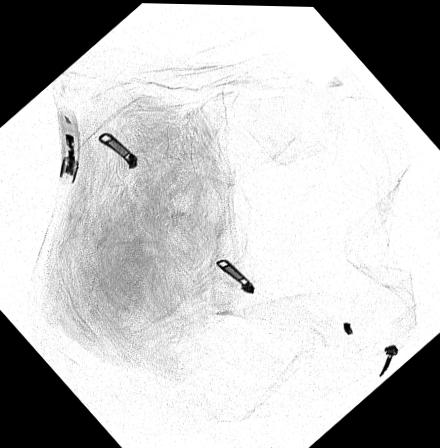Lighter: (57, 102, 79, 184)
